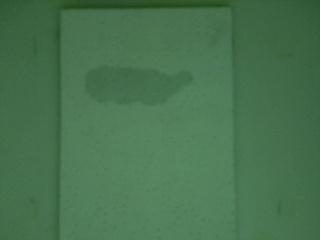Water_detected: (92, 69, 183, 112)
